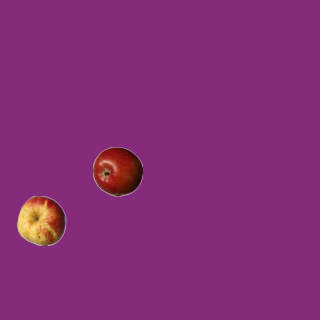Apple Braeburn: (92, 146, 142, 196)
Apple Red Yellow 1: (16, 195, 66, 245)
